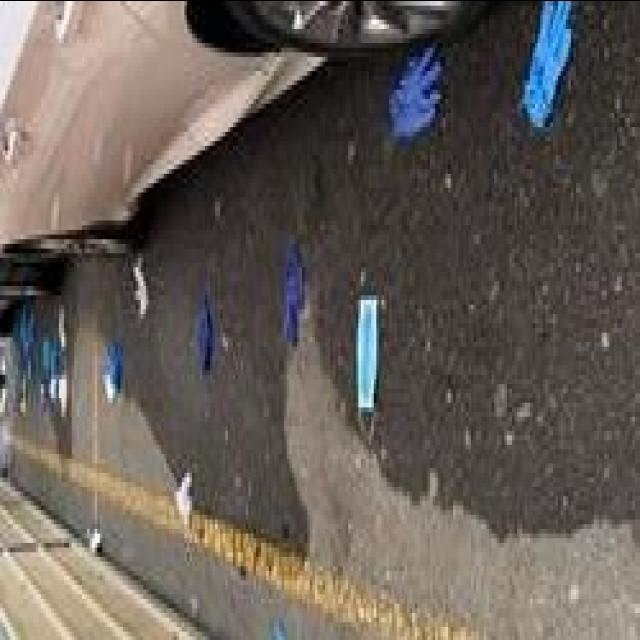b3: (144, 222, 388, 446), (364, 0, 595, 202), (8, 298, 134, 439)
